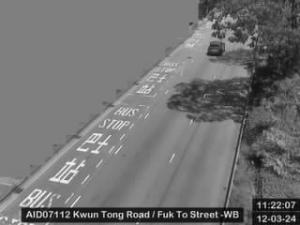vehicle: (208, 41, 224, 56)
